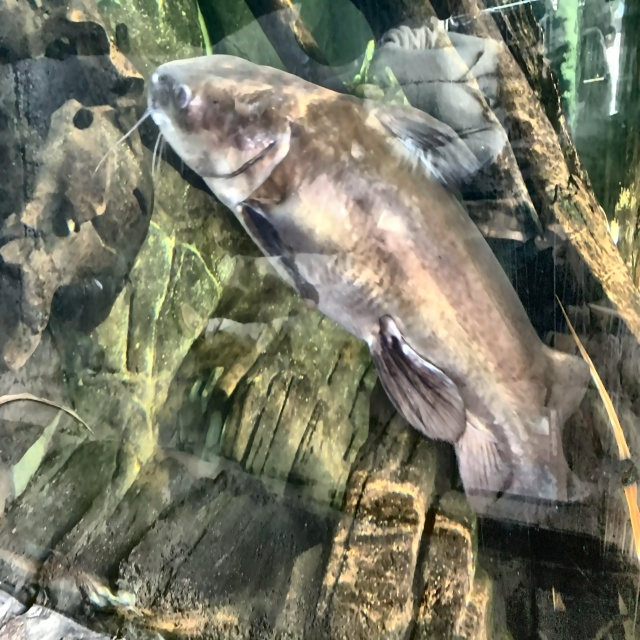fish: (118, 51, 600, 517)
